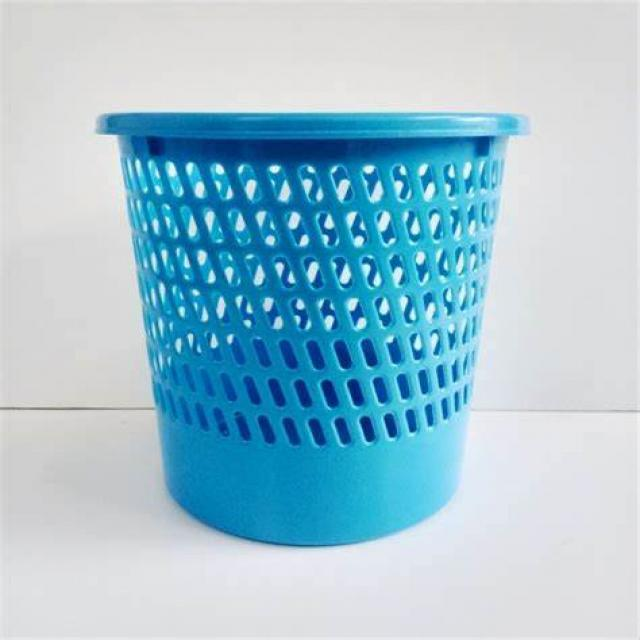garbage container: (76, 77, 564, 560)
